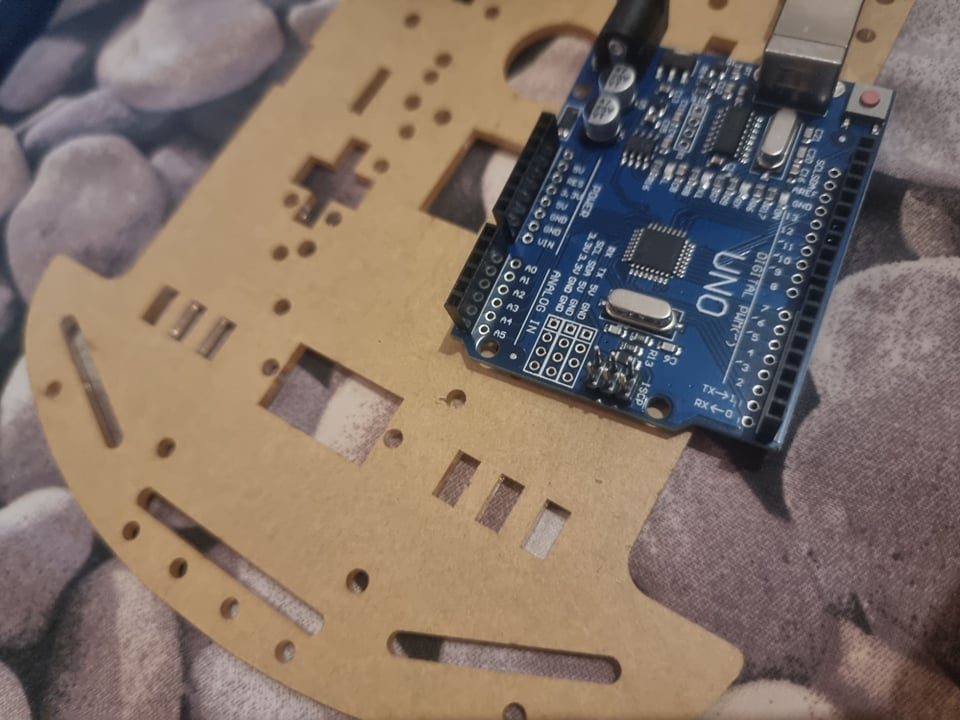UNO R3: (444, 1, 893, 455)
